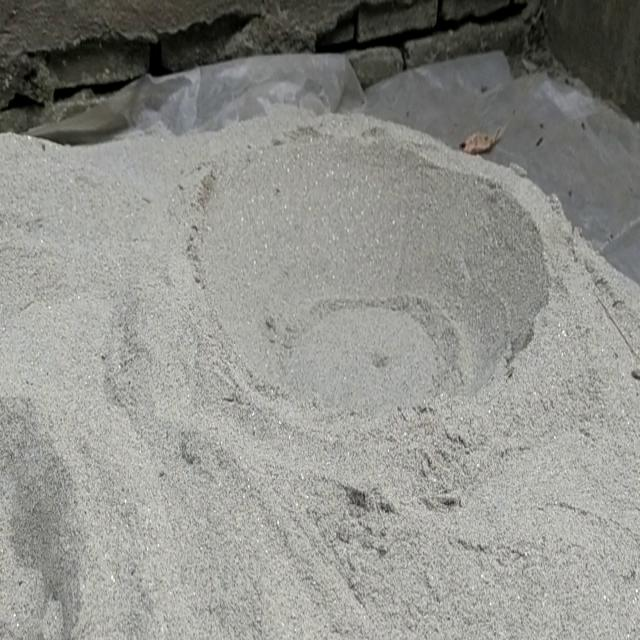C20: (191, 118, 548, 416)
